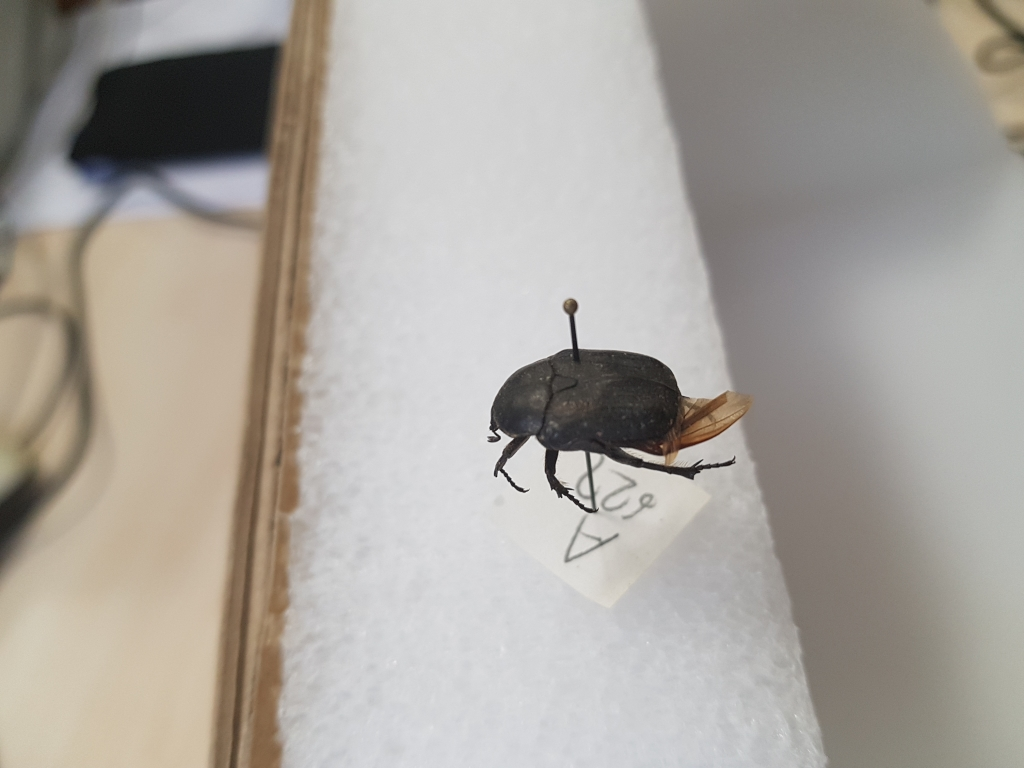Protaetia_asiatica: (485, 338, 763, 505)
